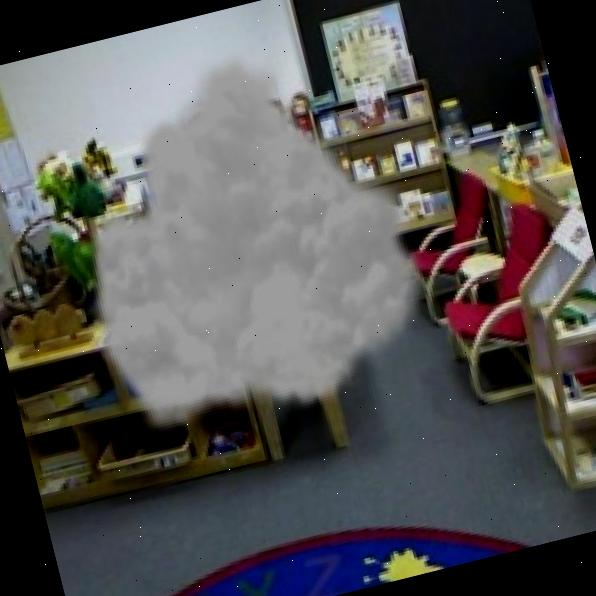smoke: (31, 12, 460, 457)
